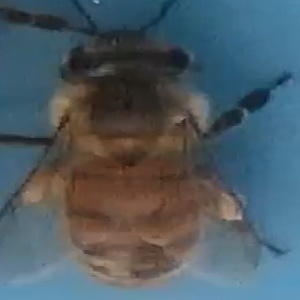bee: (3, 5, 295, 289)
